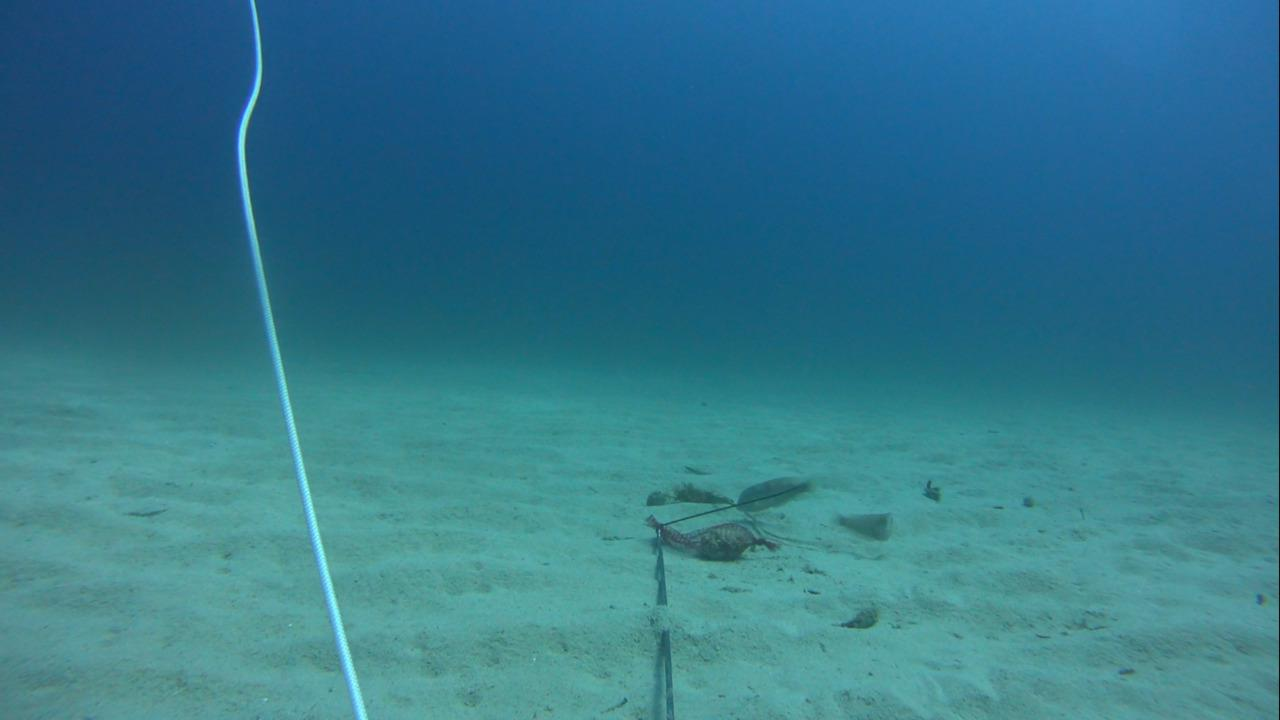raor: (734, 472, 816, 515), (825, 506, 898, 546)
